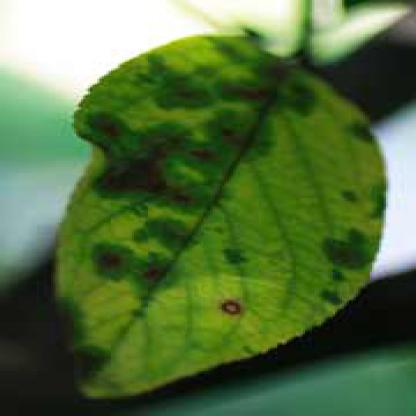apple scab leaf: (44, 28, 395, 414)
